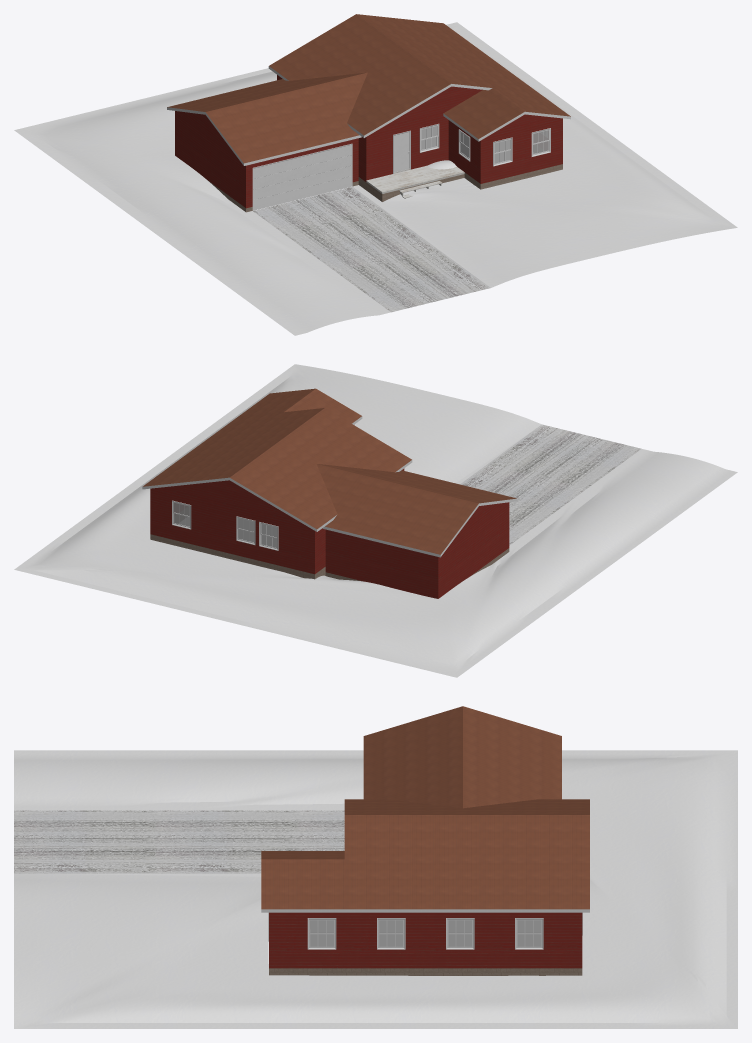
3 views of the same model, one above another, from view 1: azimuth 30°, elevation 25°; view 2: azimuth 150°, elevation 25°; view 3: azimuth 270°, elevation 25° (orthographic). The views are drawn at different scales.
Parts seen in each view (by area): view 1: Material2 (×8); view 2: Material2 (×7); view 3: Material2 (×7).
Boxes of the visible parts, bbox=[...] form: Material2 (×8): bbox=[14, 14, 737, 335]; Material2 (×7): bbox=[14, 364, 737, 677]; Material2 (×7): bbox=[14, 706, 737, 1028].
Bounding box in the file's own units: 1037 × 198 × 1139.
Materials: 12 (7 with a texture image).
